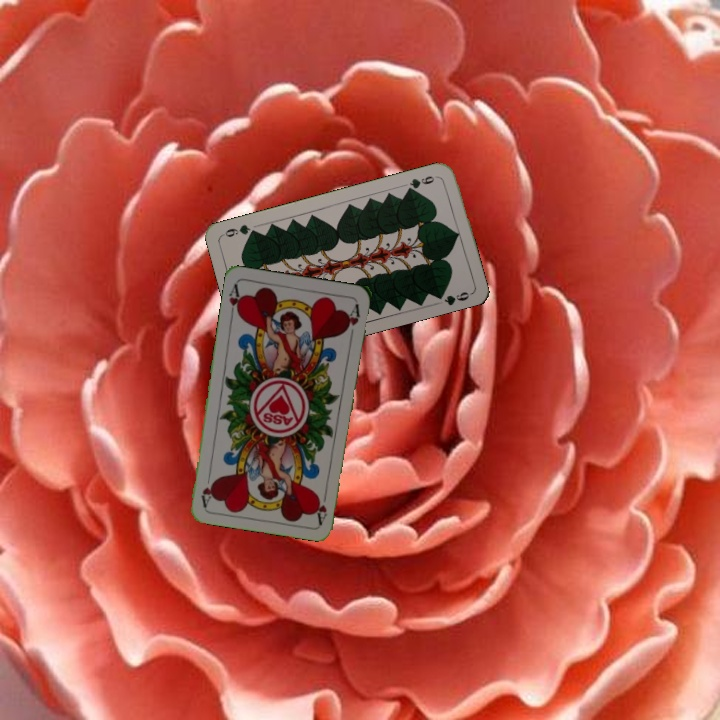G9: (403, 172, 441, 194)
HA: (225, 280, 245, 321), (313, 485, 330, 526)
